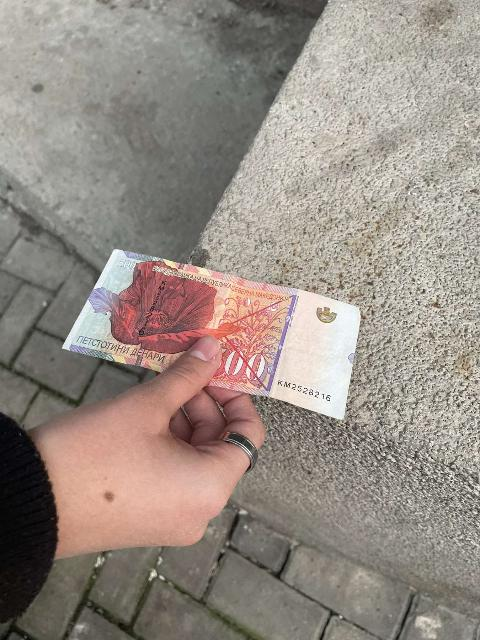500_note: (64, 250, 359, 418)
